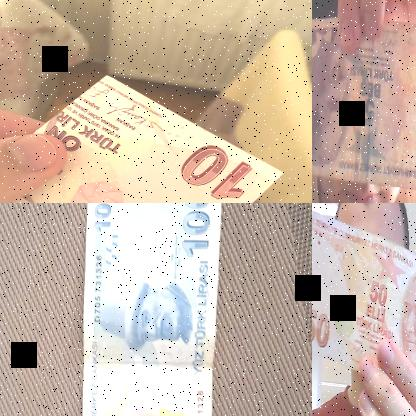5 TL: (0, 74, 287, 202)
